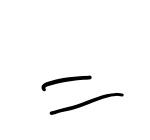eqv: (35, 74, 126, 116)
